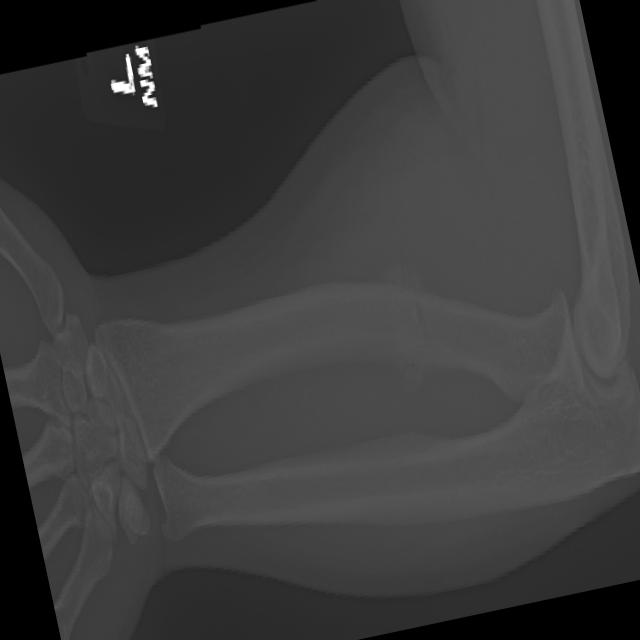forearm fracture: (387, 257, 459, 409)
